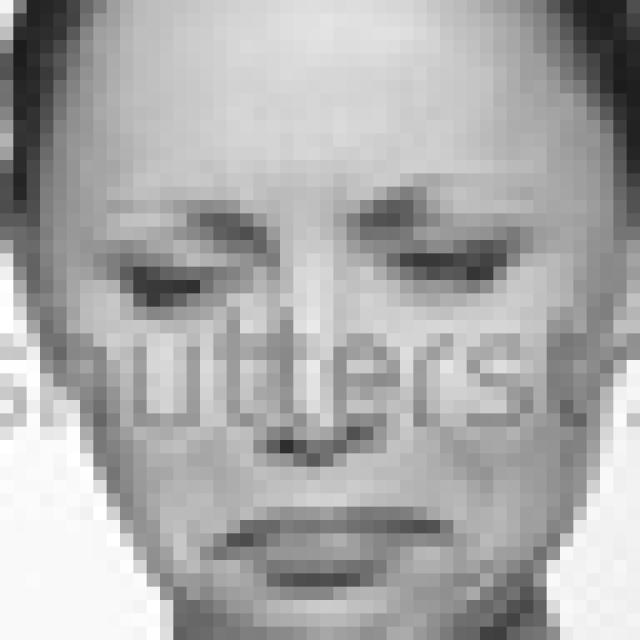sad: (94, 175, 556, 602)
